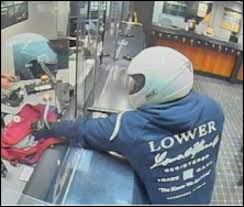gun: (83, 100, 121, 122)
